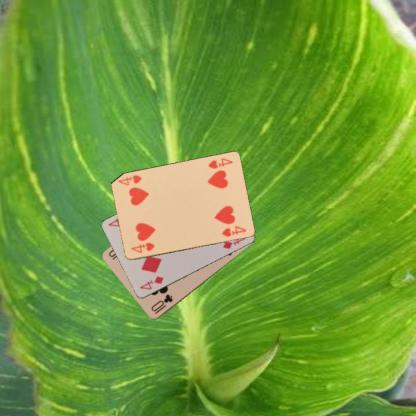10c: (148, 292, 174, 316)
4d: (137, 274, 165, 292)
4h: (205, 156, 234, 170), (128, 240, 156, 254)
